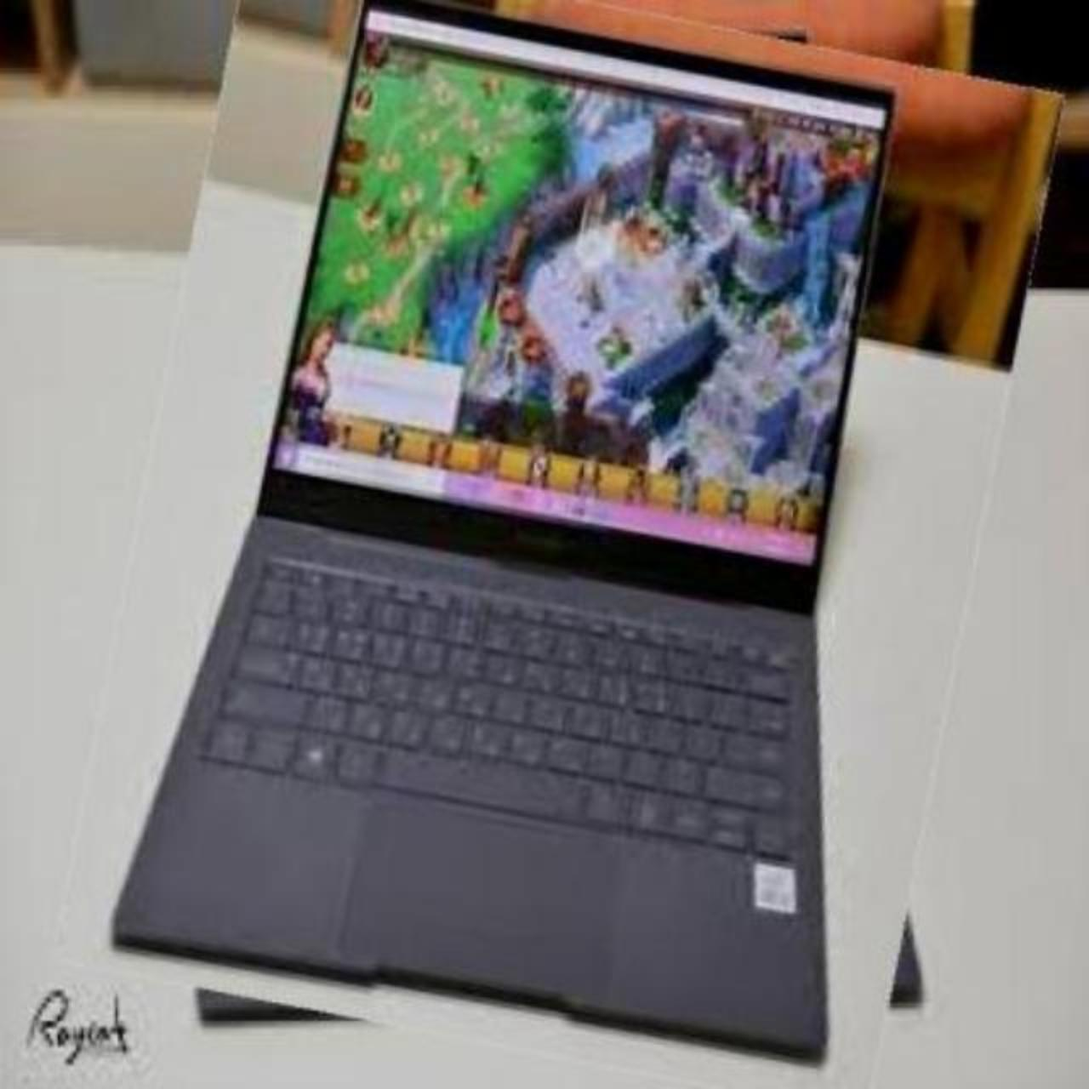laptop: (98, 1, 1018, 1081)
